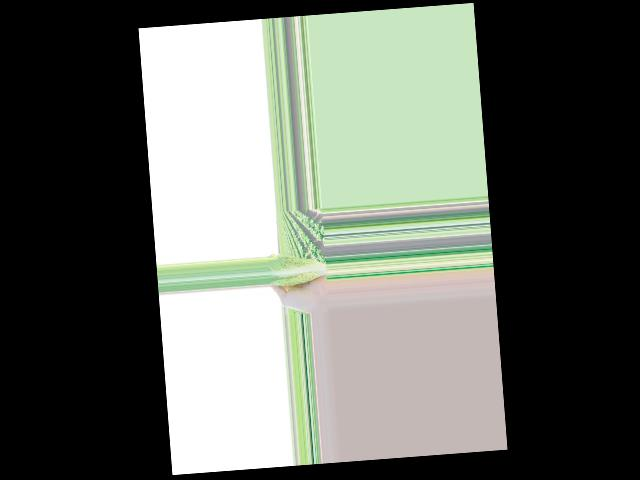lettuce: (268, 251, 328, 286)
